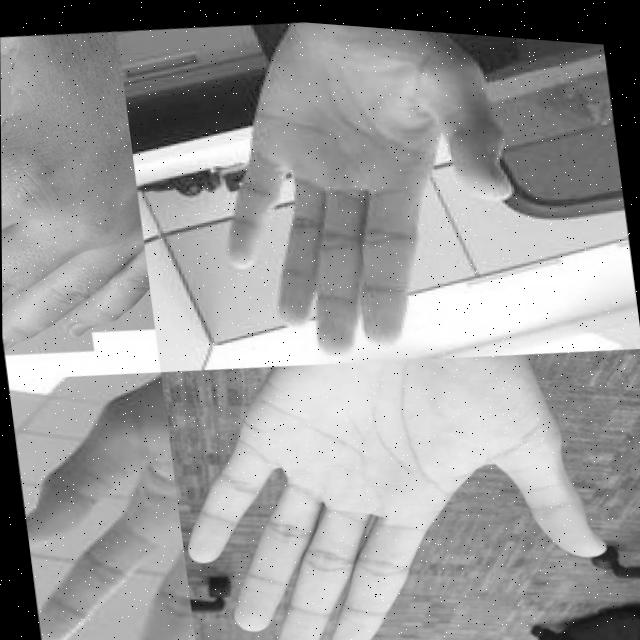hand: (161, 317, 621, 640), (157, 9, 550, 385), (7, 360, 198, 640), (0, 23, 156, 365)
